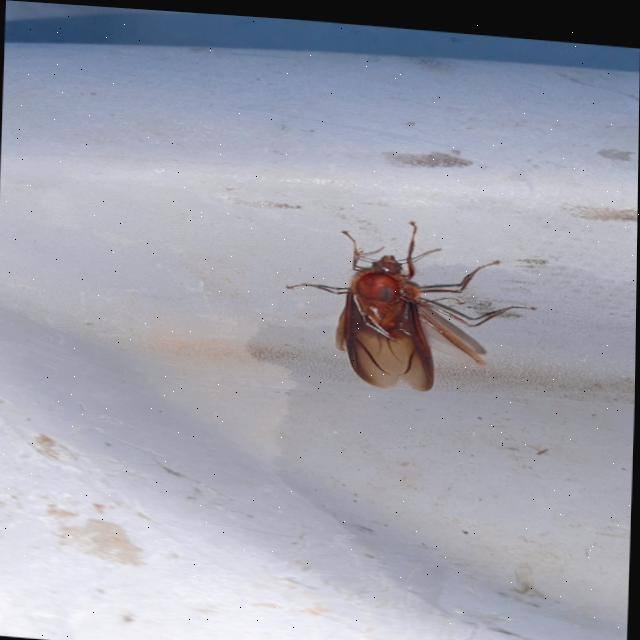Alive-Male-Alate: (283, 205, 539, 393)
